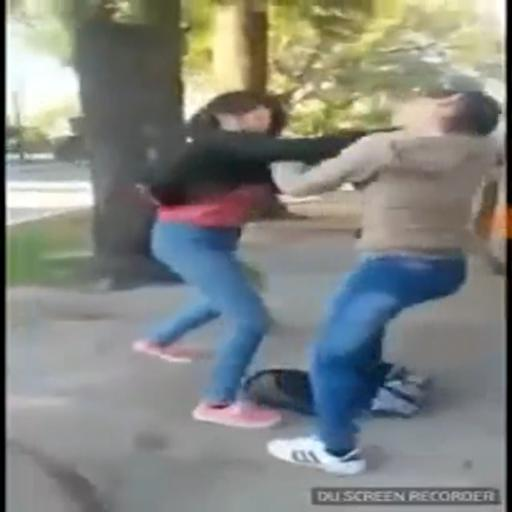violencia: (90, 61, 493, 474)
